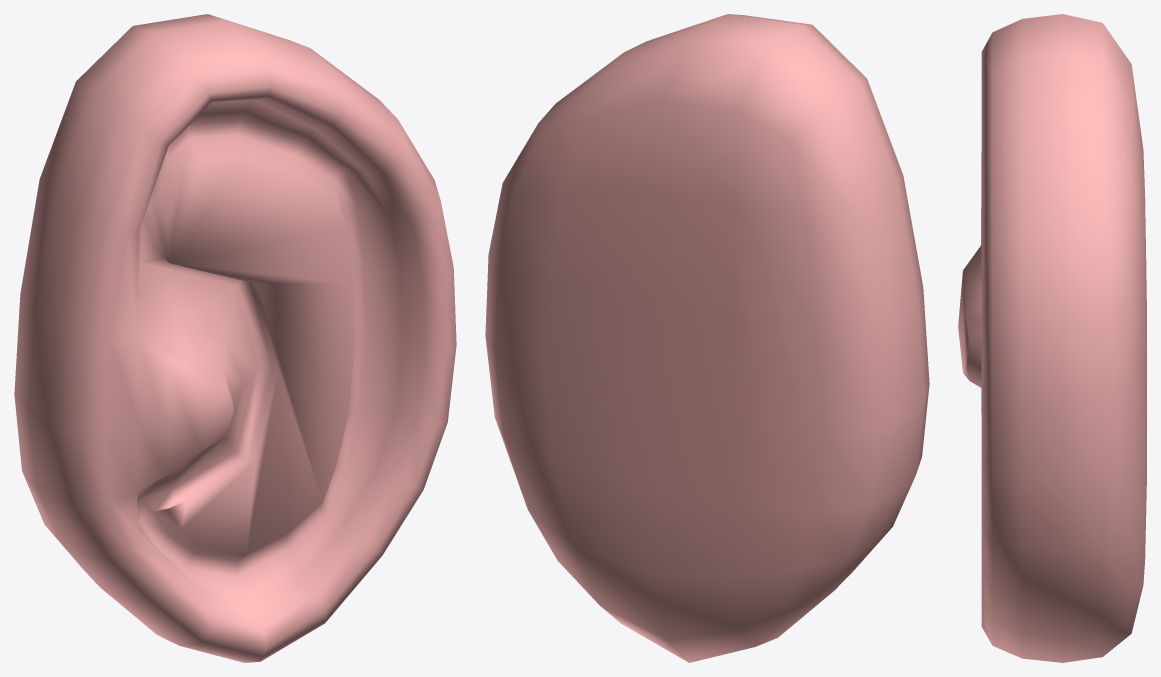
Rendered from ear.fbx.
3 views of the same model, side by side, from view 1: azimuth 30°, elevation 25°; view 2: azimuth 150°, elevation 25°; view 3: azimuth 270°, elevation 25° (orthographic). The views are drawn at different scales.
Parts seen in each view (by area): view 1: Cube; view 2: Cube; view 3: Cube.
Part boxes in pixels (x1,y1,x2,y2): Cube: (14, 14, 456, 662); Cube: (485, 14, 929, 662); Cube: (958, 14, 1146, 662).
Bounding box in the file's own units: 155 × 231 × 65.32.
